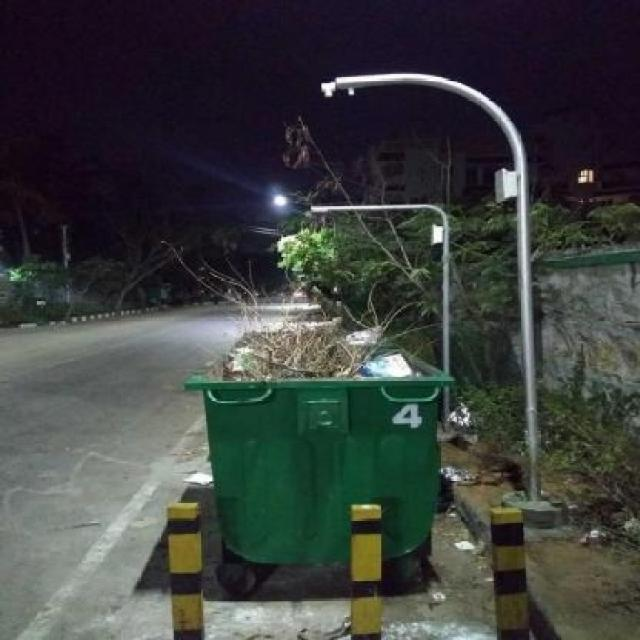garbage: (326, 319, 424, 383)
